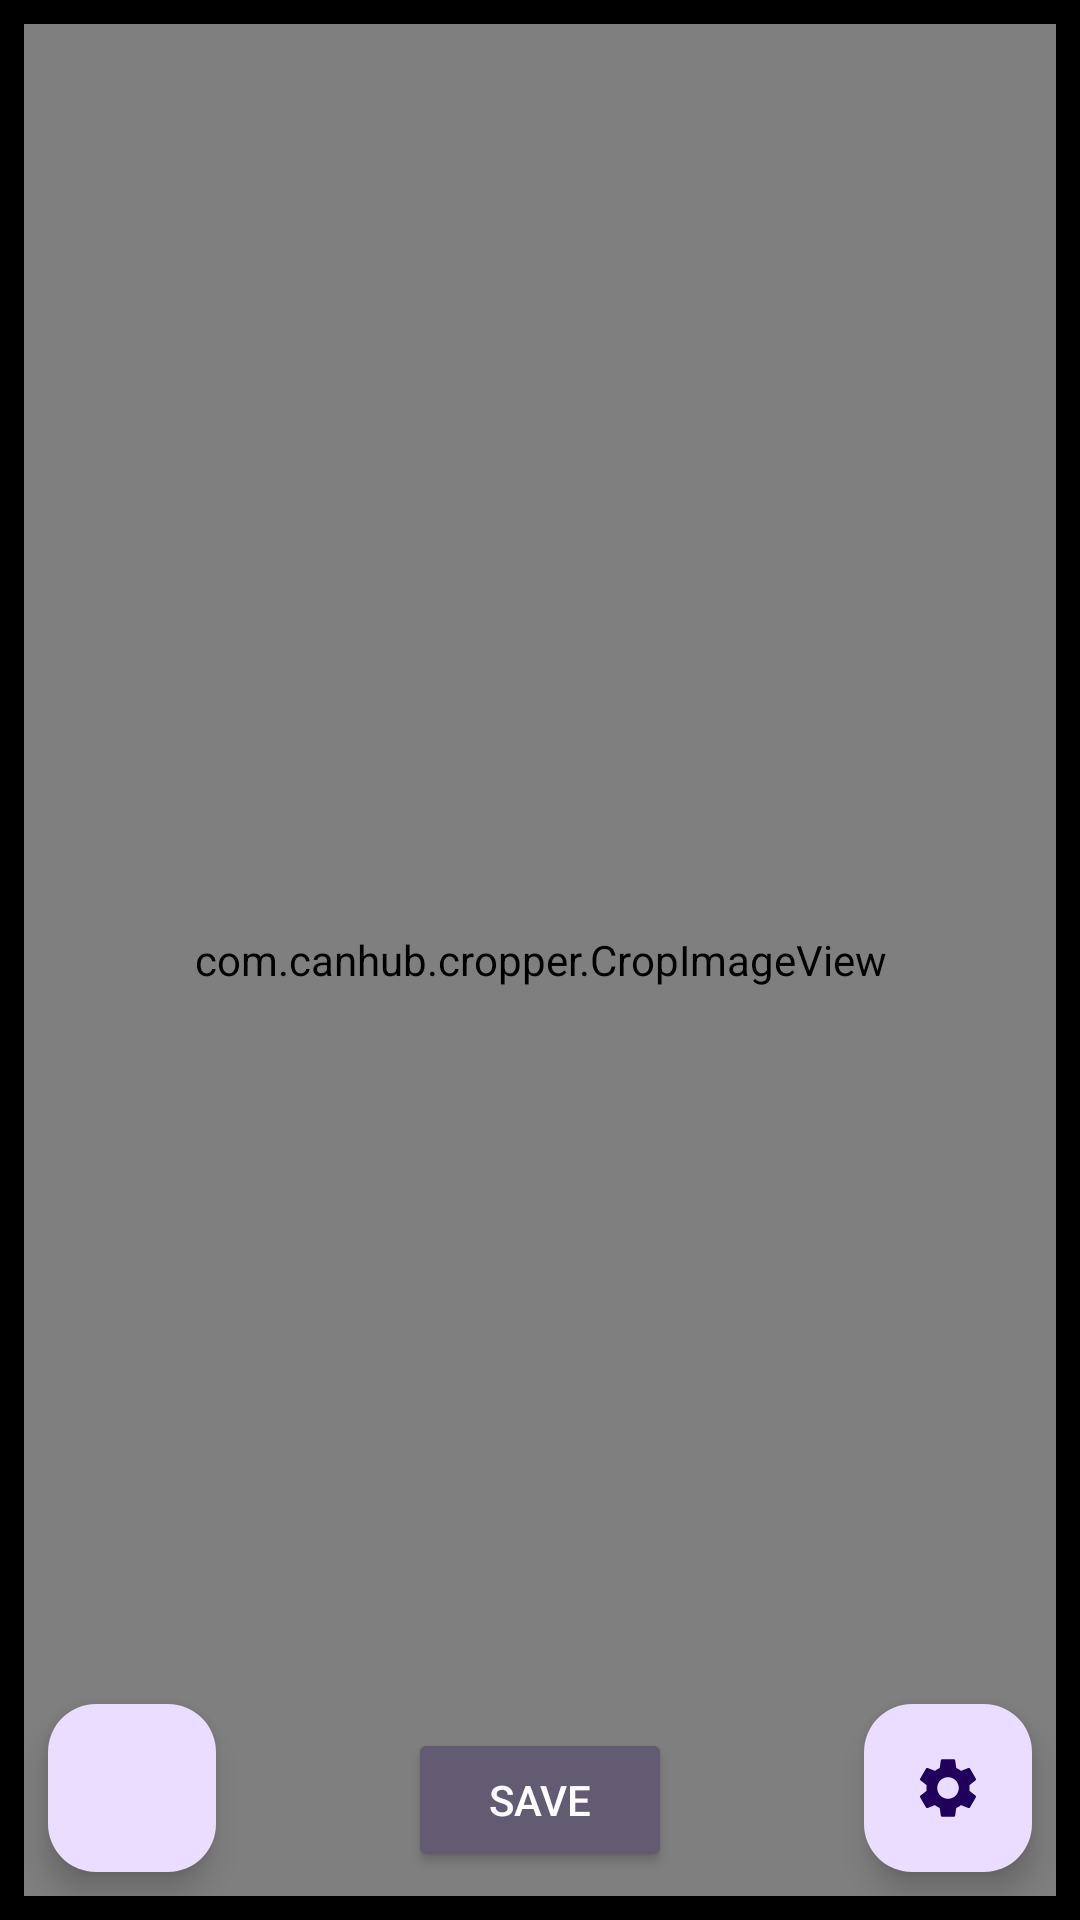

Icons on this 1080px x 1920px Android screen, each with the point to tap as (x,y):
gear: (948,1788)
